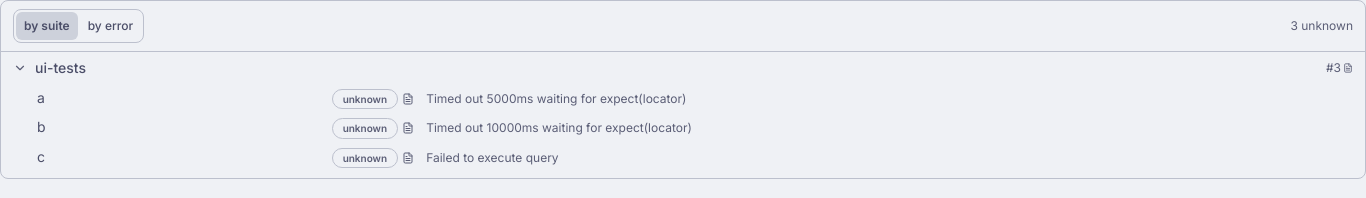
RunFailures › grouping › clusters failures by the server's cluster key and persists the choice
Click the button with test id "run-failure-grouping-error".
click(110, 26)  # box x1=80 y1=12 x2=141 y2=40
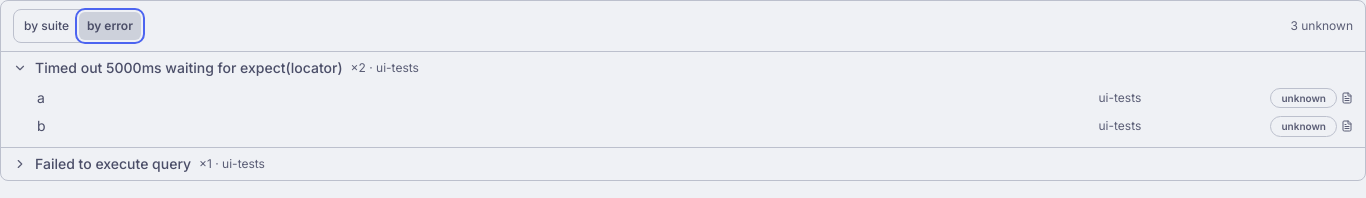
Check: the text "Timed out 5000ms waiting for expect(locator)" is shown, box x1=35 y1=58 x2=343 y2=78
Check: the number of elements with test id "run-failure-group" is 2, box x1=1 y1=52 x2=1365 y2=148; x1=1 y1=148 x2=1365 y2=180
Check: the text "×2 · ui-tests" is shown, box x1=351 y1=60 x2=419 y2=76
